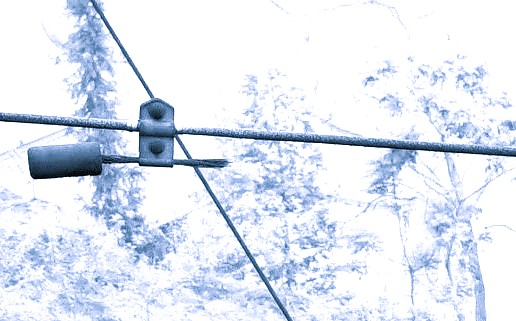Damage of shockproof hammer: (19, 91, 242, 186)
